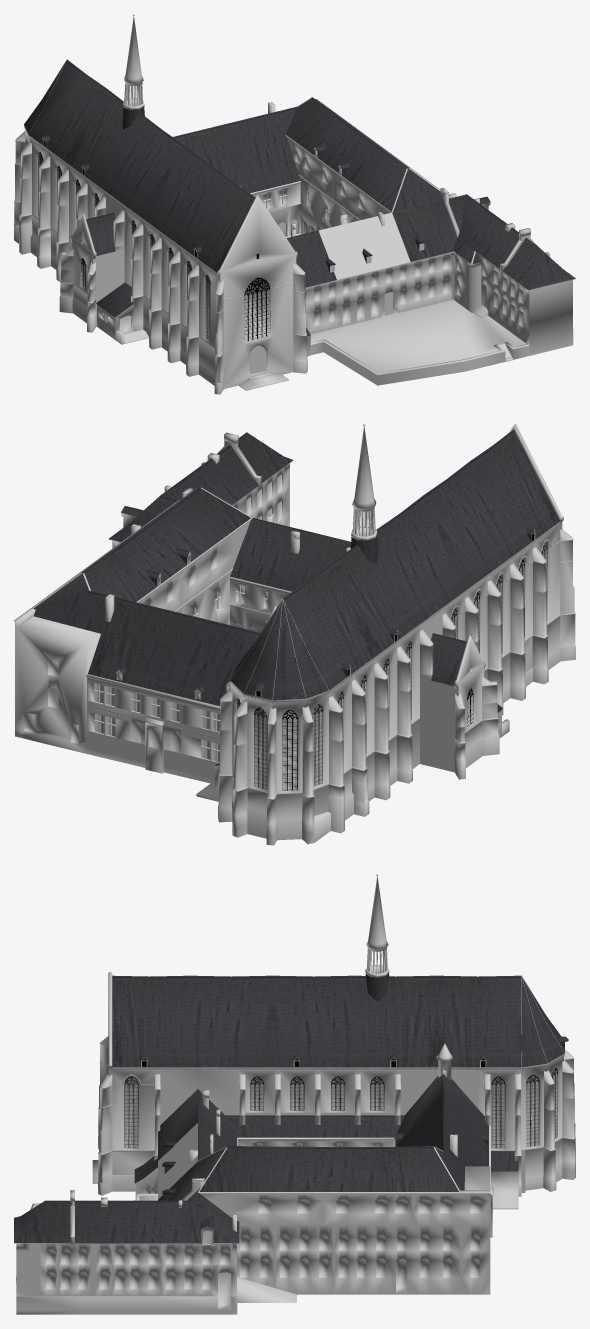
Rendered from Church.fbx.
3 views of the same model, one above another, from view 1: azimuth 30°, elevation 25°; view 2: azimuth 150°, elevation 25°; view 3: azimuth 270°, elevation 25° (orthographic). The views are drawn at different scales.
Parts seen in each view (by area): view 1: kılıse_catı, kılıse_duvar, kılıse_yanındaki_bına_duvar; view 2: kılıse_catı, kılıse_duvar, kılıse_yanındaki_bına_duvar; view 3: kılıse_catı, kılıse_yanındaki_bına_duvar, kılıse_duvar.
Part boxes in pixels (left/top/right/bottom): kılıse_catı: left=24, top=59, right=575, bottom=336; kılıse_duvar: left=14, top=14, right=530, bottom=394; kılıse_yanındaki_bına_duvar: left=251, top=98, right=575, bottom=375; kılıse_catı: left=33, top=429, right=560, bottom=765; kılıse_duvar: left=86, top=424, right=575, bottom=845; kılıse_yanındaki_bına_duvar: left=14, top=432, right=350, bottom=783; kılıse_catı: left=14, top=973, right=568, bottom=1242; kılıse_yanındaki_bına_duvar: left=14, top=1089, right=493, bottom=1314; kılıse_duvar: left=70, top=874, right=575, bottom=1209.
Bounding box in the file's own units: 5588 × 4170 × 7117.
